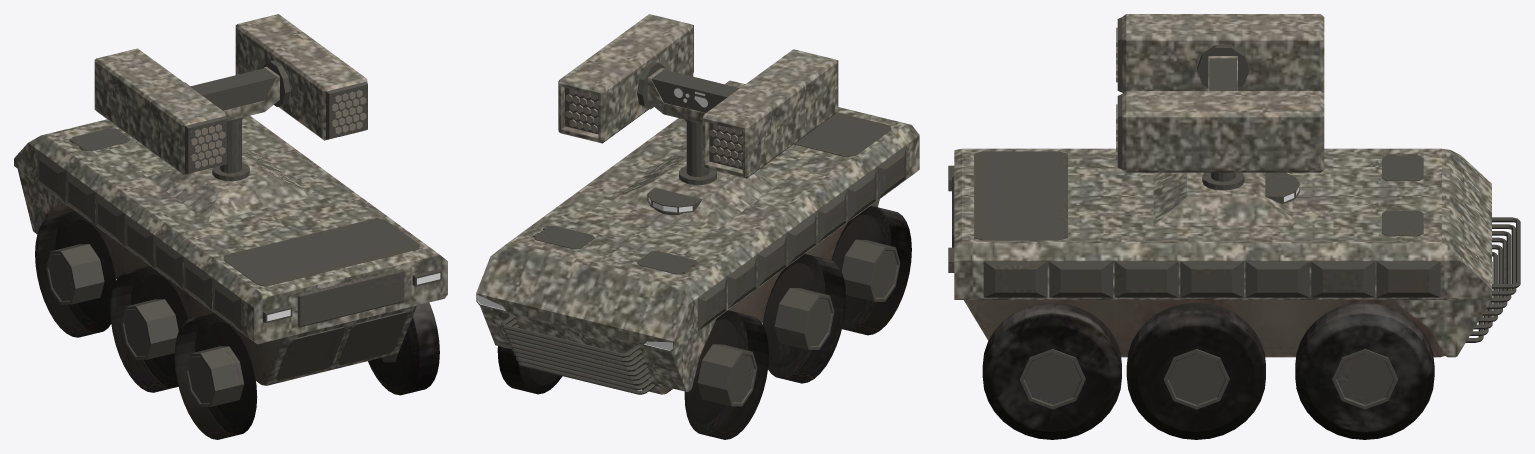
Rendered from avs_6.glb.
3 renders of one model, left to right at view 1: azimuth 30°, elevation 25°; view 2: azimuth 150°, elevation 25°; view 3: azimuth 270°, elevation 25°, orthographic. The views are drawn at different scales.
Visible parts, largest first — view 1: Sphere, Rocket launchers, wheel, wheel5, wheel6, Sphere.003, wheel4; view 2: Sphere, Rocket launchers, wheel6, wheel5, wheel, Sphere.003, wheel2; view 3: Sphere, Rocket launchers, wheel2, wheel3, wheel4, Sphere.003.
Part boxes in pixels (x1,y1,x2,y2): Sphere: [14, 115, 447, 385]; Rocket launchers: [94, 14, 367, 174]; wheel: [174, 313, 257, 439]; wheel5: [35, 211, 116, 337]; wheel6: [110, 266, 188, 392]; Sphere.003: [191, 66, 279, 181]; wheel4: [368, 302, 439, 395]; Sphere: [476, 80, 919, 394]; Rocket launchers: [558, 14, 838, 178]; wheel6: [762, 254, 845, 383]; wheel5: [684, 310, 768, 439]; wheel: [832, 206, 911, 335]; Sphere.003: [647, 68, 738, 184]; wheel2: [497, 346, 562, 394]; Sphere: [948, 148, 1520, 357]; Rocket launchers: [1116, 14, 1324, 172]; wheel2: [1295, 302, 1434, 439]; wheel3: [1126, 302, 1265, 439]; wheel4: [982, 302, 1121, 439]; Sphere.003: [1202, 56, 1244, 190].
Size of the model in its own units: 0.4109 by 0.5273 by 0.8523.
Materials: 3 (1 with a texture image).
